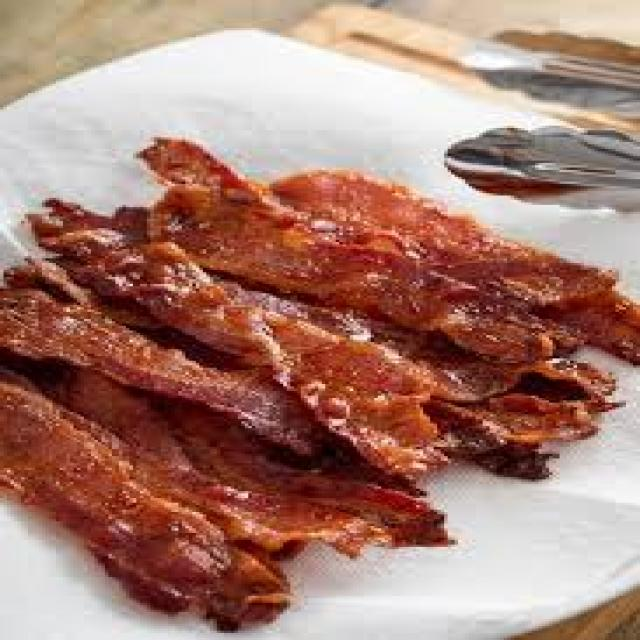Bacon: (41, 229, 447, 478), (4, 371, 282, 630), (150, 187, 556, 363), (274, 173, 639, 363), (2, 289, 323, 456)
